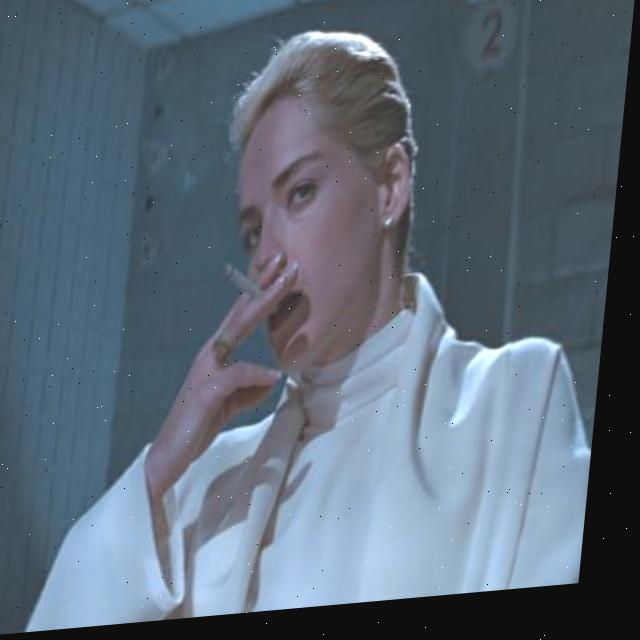cigarette: (226, 262, 270, 310)
